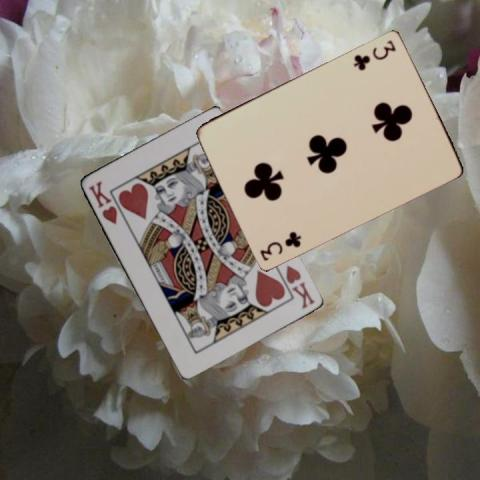3c: (351, 37, 397, 71), (257, 229, 303, 262)
Kh: (282, 262, 316, 311), (85, 178, 119, 226)
